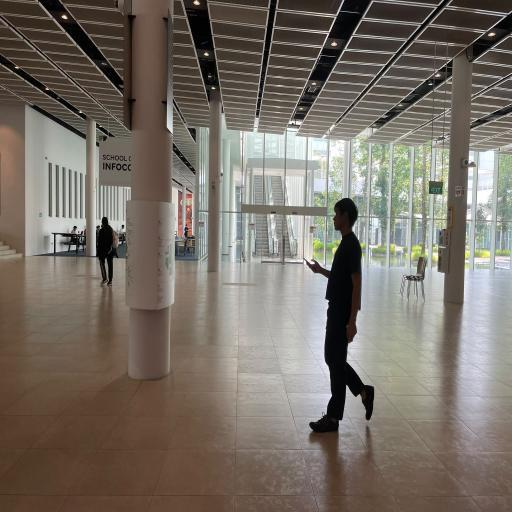person_left: (305, 192, 375, 444)
